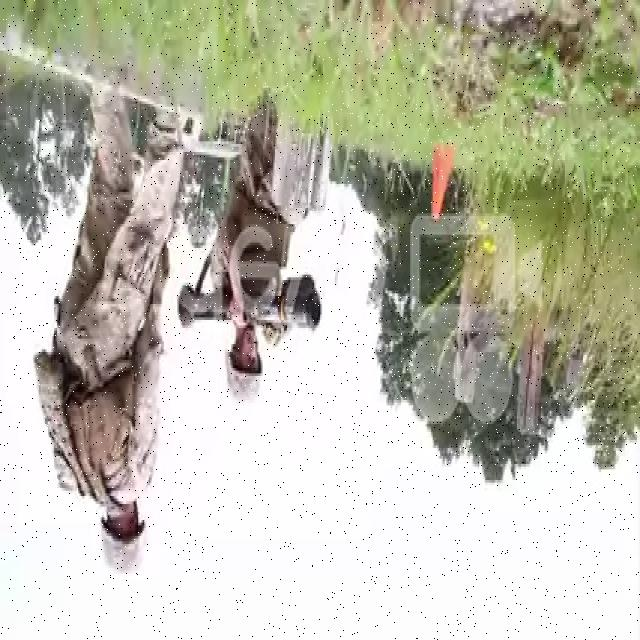bazooka: (175, 275, 326, 341)
